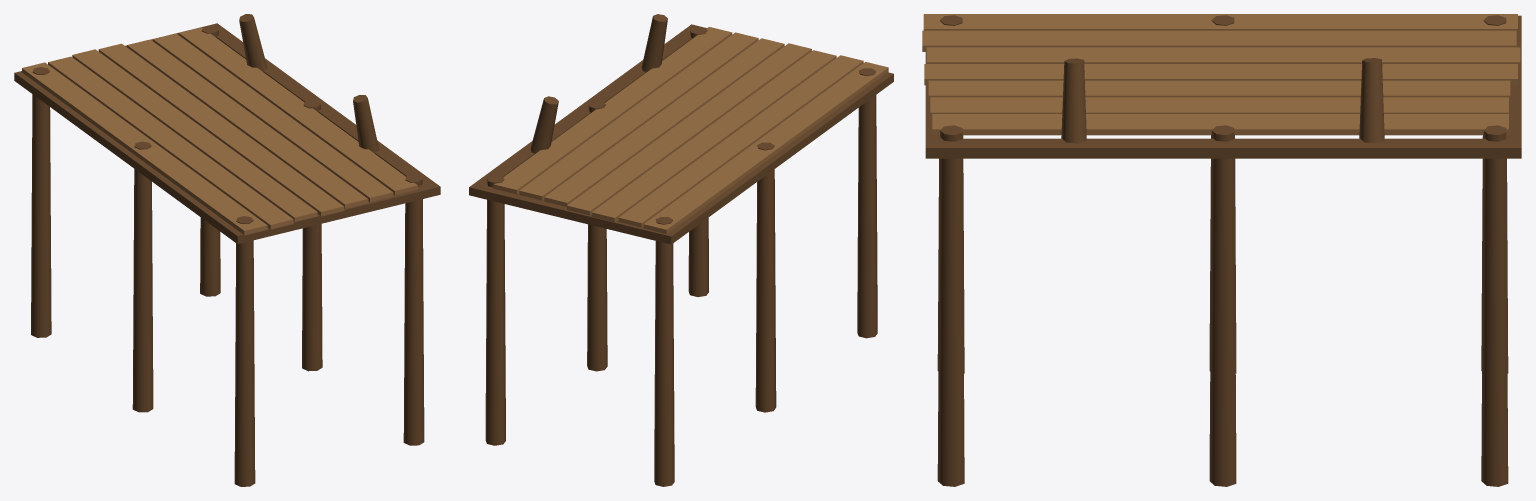
File: dock-platform.glb
The picture shows the model from 3 angles, left to right: view 1: azimuth 30°, elevation 25°; view 2: azimuth 150°, elevation 25°; view 3: azimuth 270°, elevation 25°; orthographic projection. The views are drawn at different scales.
Parts seen in each view (by area): view 1: woodlight, wooddark; view 2: woodlight, wooddark; view 3: woodlight, wooddark.
Part boxes in pixels (box(x1,y1,x2,y2)): woodlight: box(22, 27, 417, 235); wooddark: box(14, 14, 440, 486); woodlight: box(493, 27, 888, 233); wooddark: box(469, 14, 893, 486); woodlight: box(922, 14, 1520, 135); wooddark: box(925, 15, 1521, 486).
Bounding box in the file's own units: 4.2 × 6.18 × 8.05.
